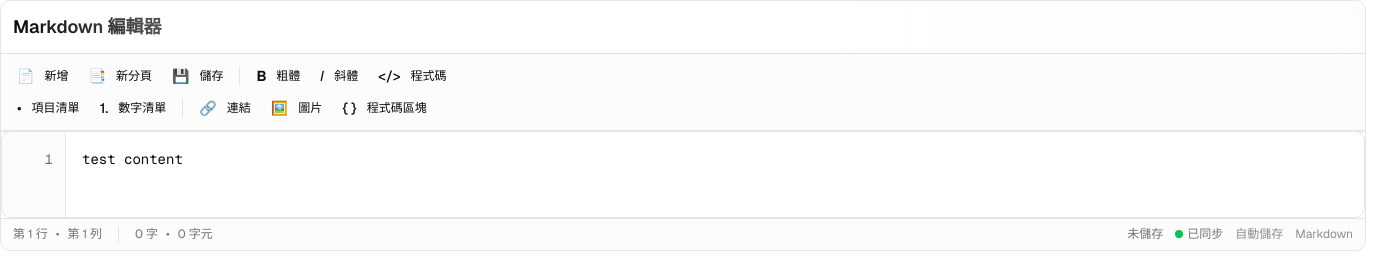
EditorPanel › should handle toolbar actions
Click the button with test id "toolbar-bold" at (278, 76), box [248,62,308,90]
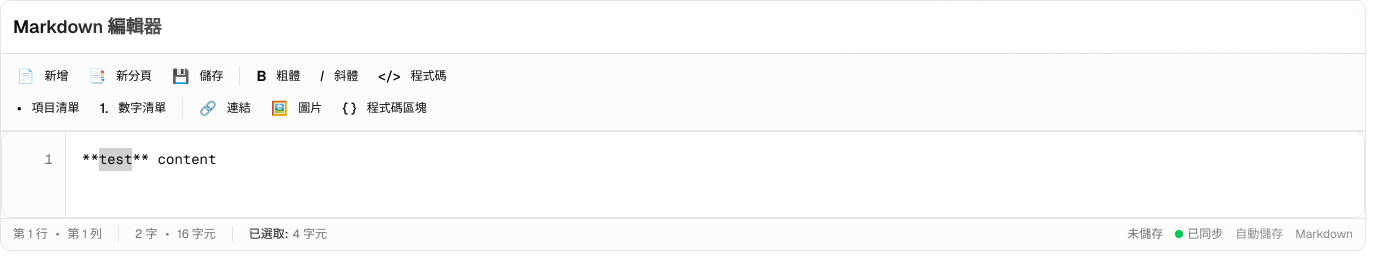
expect the text box with test id "editor-textarea" holds "**test** content": met, box [66,132,1364,216]
